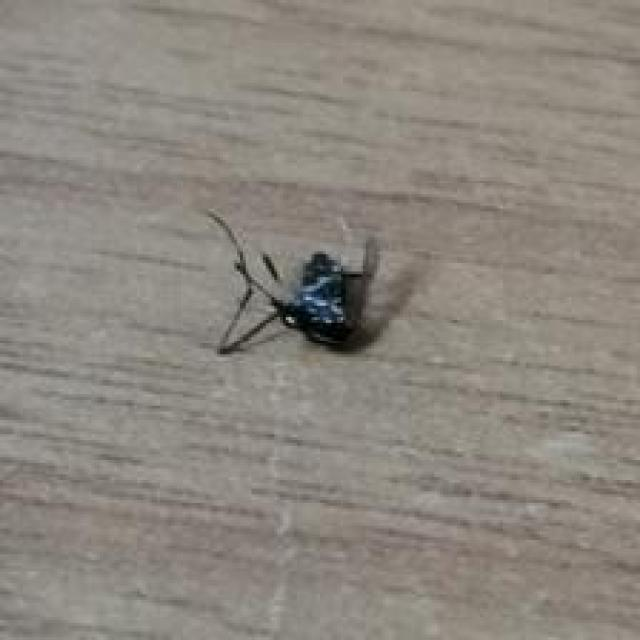Aedes albopictus: (205, 207, 382, 356)
